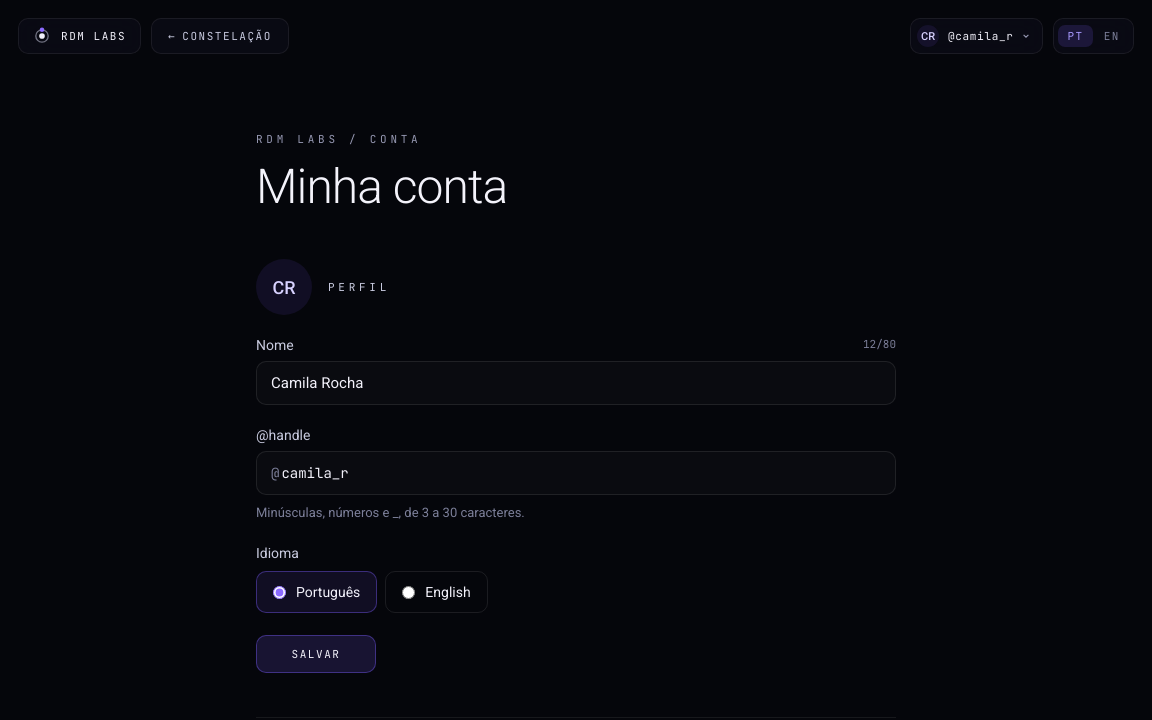
Test: Minha conta › salva e anuncia
Replace the text in the field labelled "Nome" with "Camila R." at [576, 383], box [256,361,896,405]
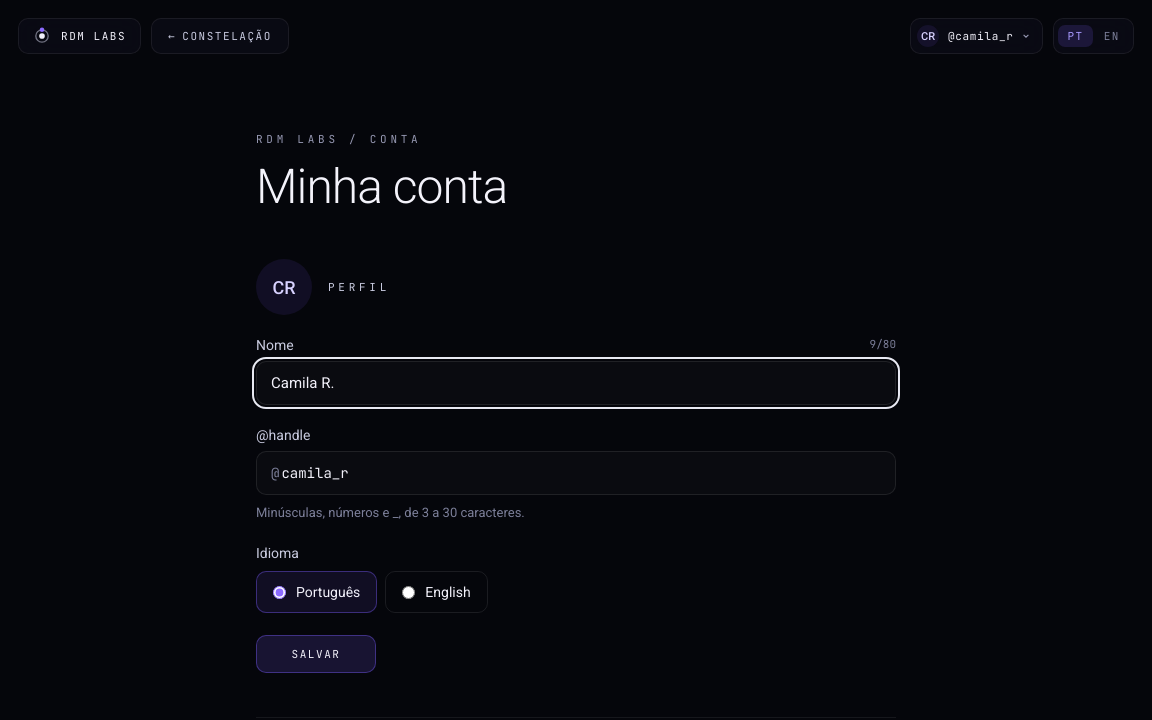
Click the button "SALVAR" at [316, 654], box [256,635,376,673]
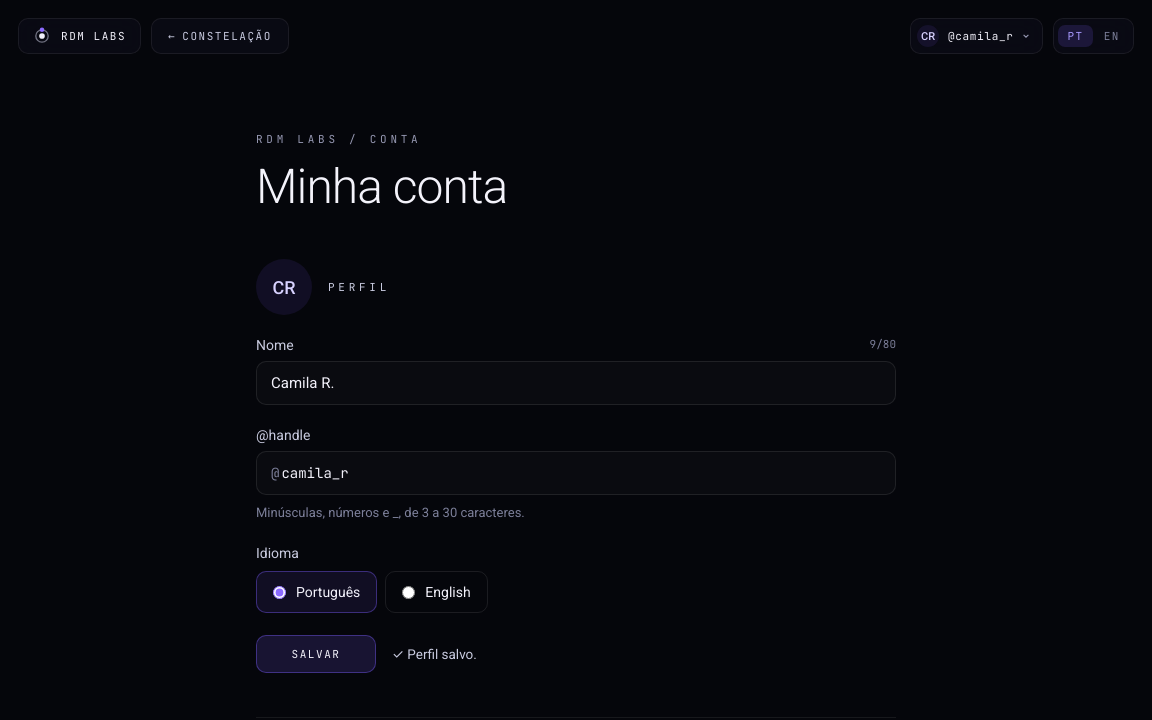
Expected: the text "✓ Perfil salvo." is shown, [392,646,477,662]
